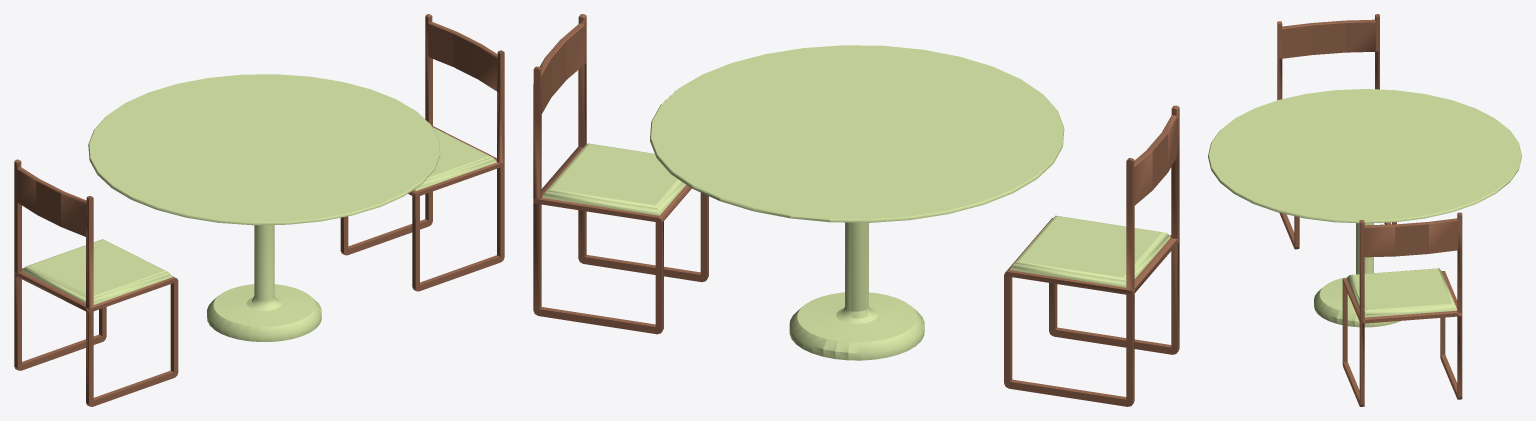
The model's file is Table.fbx.
3 renders of one model, left to right at view 1: azimuth 30°, elevation 25°; view 2: azimuth 150°, elevation 25°; view 3: azimuth 270°, elevation 25°, orthographic. The views are drawn at different scales.
Parts seen in each view (by area): view 1: table_top, chair__1_, chair; view 2: table_top, chair__1_, chair; view 3: table_top, chair, chair__1_.
Part boxes in pixels (x1,y1,x2,y2): table_top: (88, 74, 440, 341); chair__1_: (14, 159, 178, 406); chair: (340, 14, 504, 291); table_top: (650, 45, 1064, 360); chair__1_: (1004, 105, 1179, 406); chair: (533, 14, 708, 334); table_top: (1208, 89, 1521, 327); chair: (1342, 212, 1462, 406); chair__1_: (1277, 14, 1396, 249).
Bounding box in the file's own units: 763 × 320 × 486.
